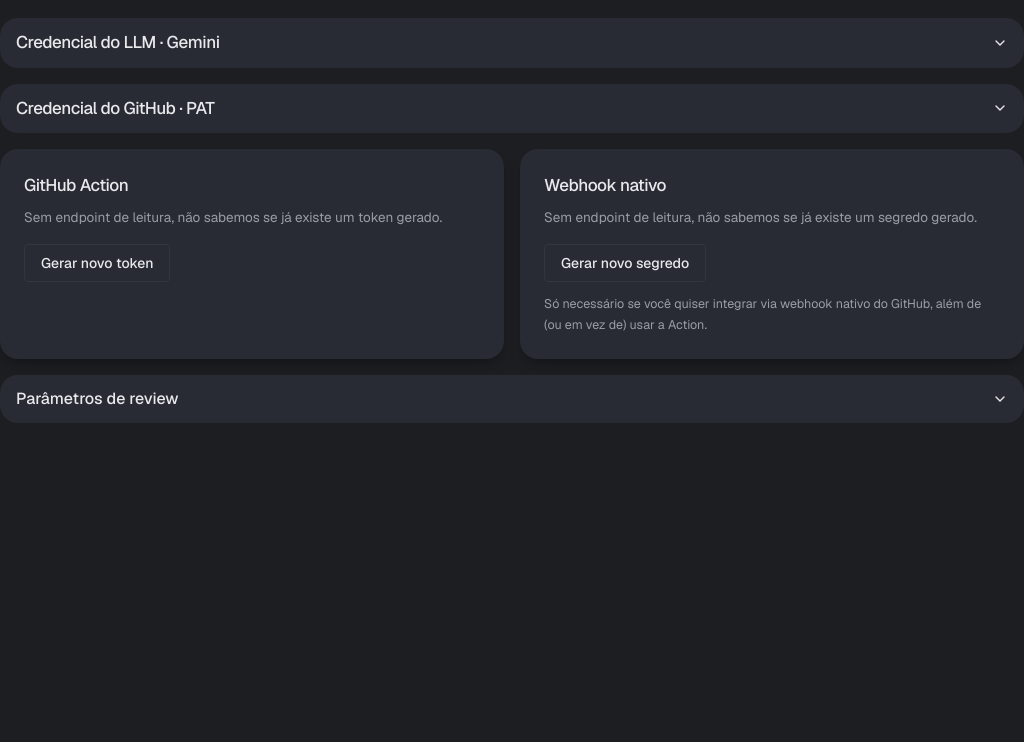
Test: SettingsPage › edits review params and sends only the touched fields
Step 1. Click the button "Parâmetros de review" → (97, 399), box left=0, top=375, right=1023, bottom=423
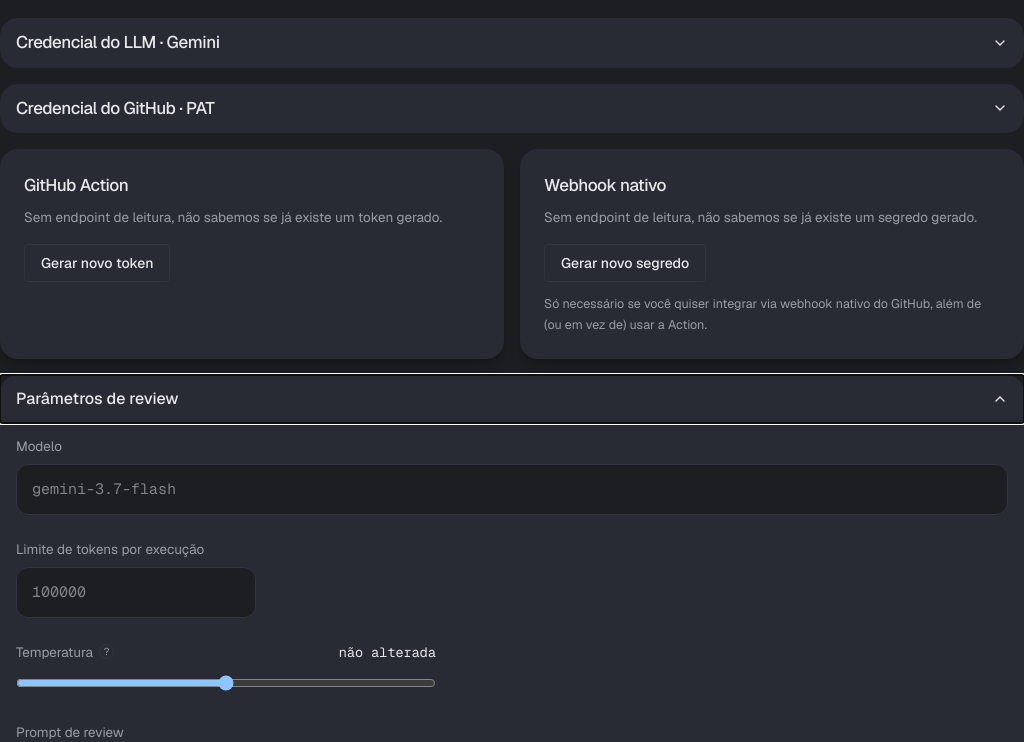
Step 2. Type "gemini-2.5-pro" into the field labelled "Modelo" → (512, 490), box left=16, top=464, right=1008, bottom=515
(page scrolled)
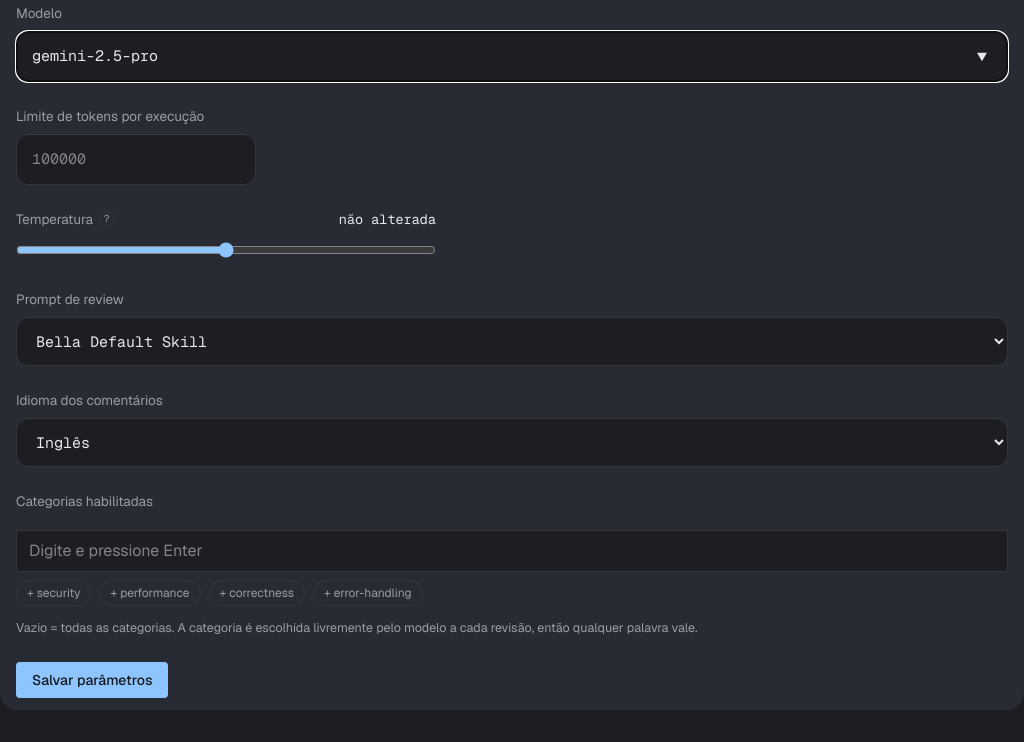
Step 3. Click the button "Salvar parâmetros" → (92, 680), box left=16, top=662, right=168, bottom=698
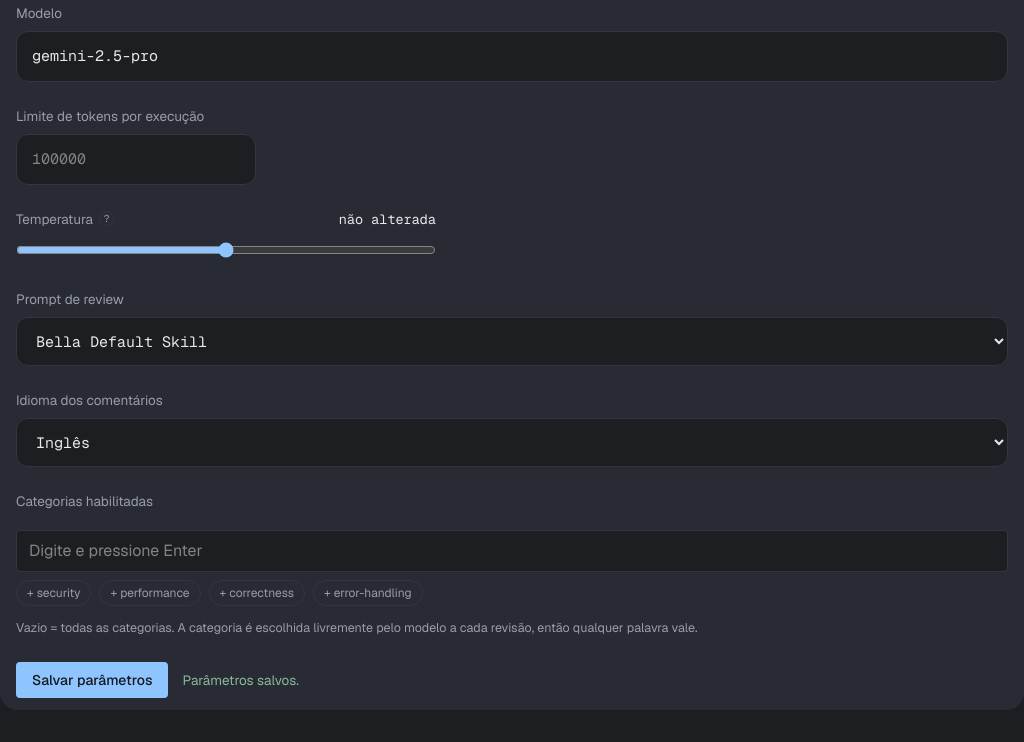
Expected: the text "Parâmetros salvos." is shown, left=182, top=670, right=299, bottom=690
